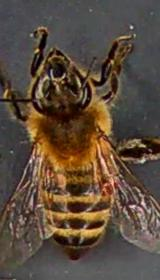varroa_mite: (88, 166, 119, 200)
